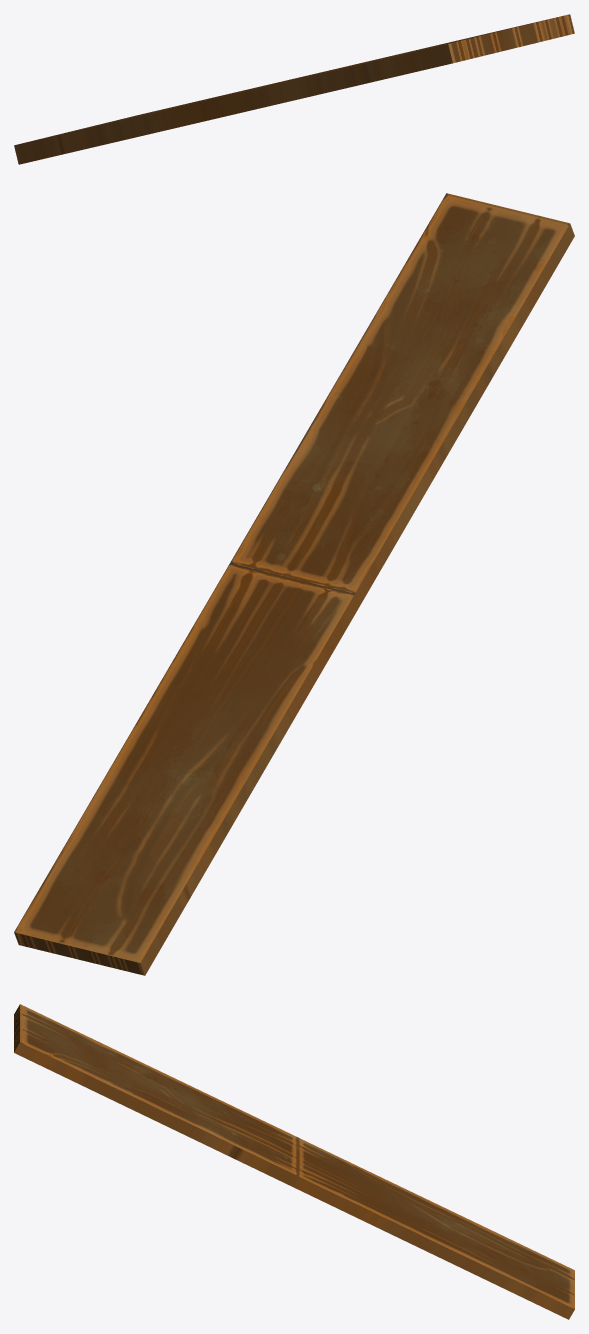
3 renders of one model, top to bottom at view 1: azimuth 30°, elevation 25°; view 2: azimuth 150°, elevation 25°; view 3: azimuth 270°, elevation 25°, orthographic. The views are drawn at different scales.
Visible parts, largest first — view 1: Cube.913; view 2: Cube.913; view 3: Cube.913.
Part boxes in pixels (bbox=[...]): Cube.913: bbox=[14, 14, 574, 164]; Cube.913: bbox=[14, 193, 574, 975]; Cube.913: bbox=[14, 1004, 574, 1319].
Bounding box in the file's own units: 119 × 383 × 700.
1 material, 1 textured.
